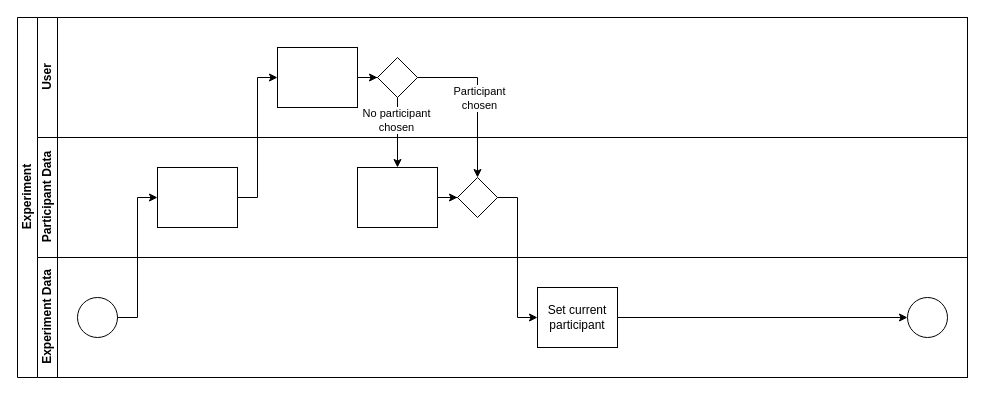
This 985x395 diagram has some shape labels left out. Each missing label, with the centre of its shape:
Create new participant: (x=397, y=197)
Load participant data file: (x=197, y=197)
Select participant: (x=317, y=77)
